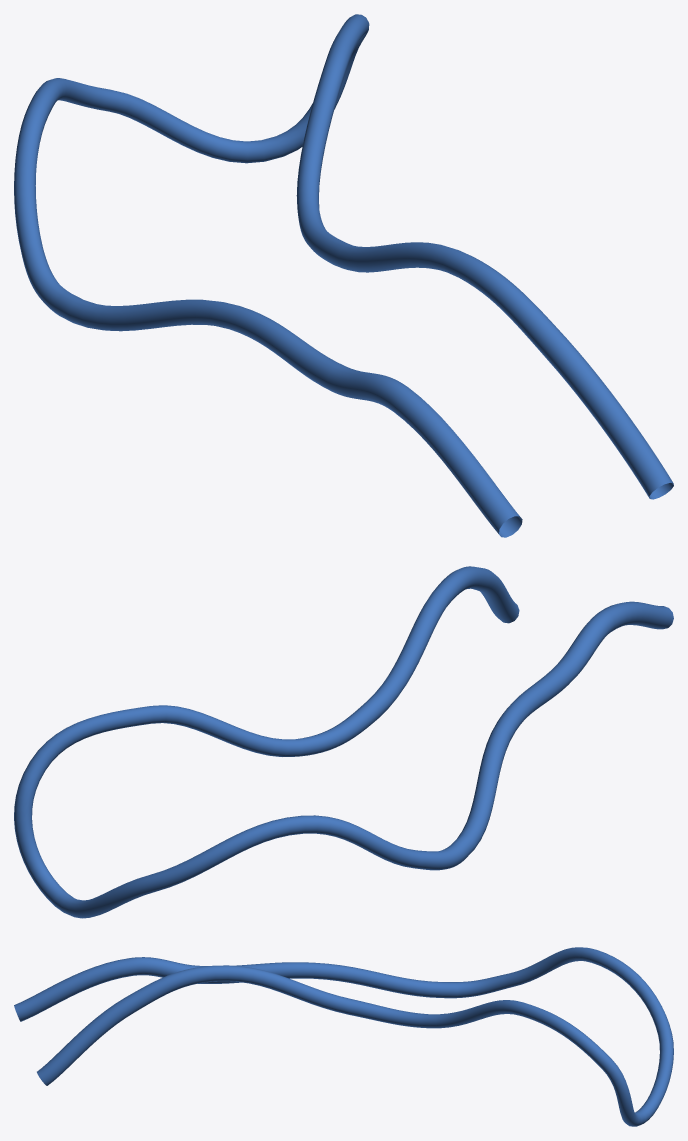
3 views of the same model, one above another, from view 1: azimuth 30°, elevation 25°; view 2: azimuth 150°, elevation 25°; view 3: azimuth 270°, elevation 25° (orthographic). The views are drawn at different scales.
Parts seen in each view (by area): view 1: 右侧掌浅静脉弓; view 2: 右侧掌浅静脉弓; view 3: 右侧掌浅静脉弓.
Boxes of the visible parts, x1,y1,x2,y2 form: 右侧掌浅静脉弓: (14, 14, 673, 537); 右侧掌浅静脉弓: (14, 566, 673, 918); 右侧掌浅静脉弓: (14, 947, 673, 1126).
Size of the model in its own units: 0.0455 by 0.0189 by 0.0967.
